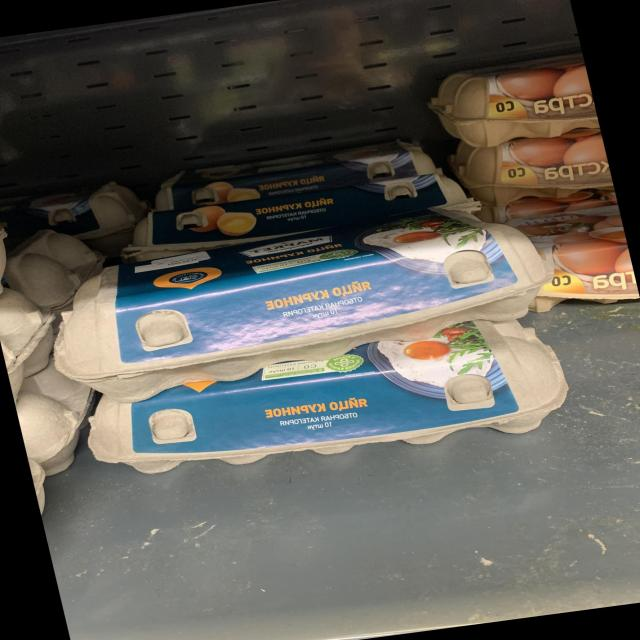organic waste: (38, 196, 560, 404), (70, 316, 566, 484), (129, 170, 464, 251), (140, 138, 438, 213), (417, 51, 600, 152), (440, 129, 616, 217)
